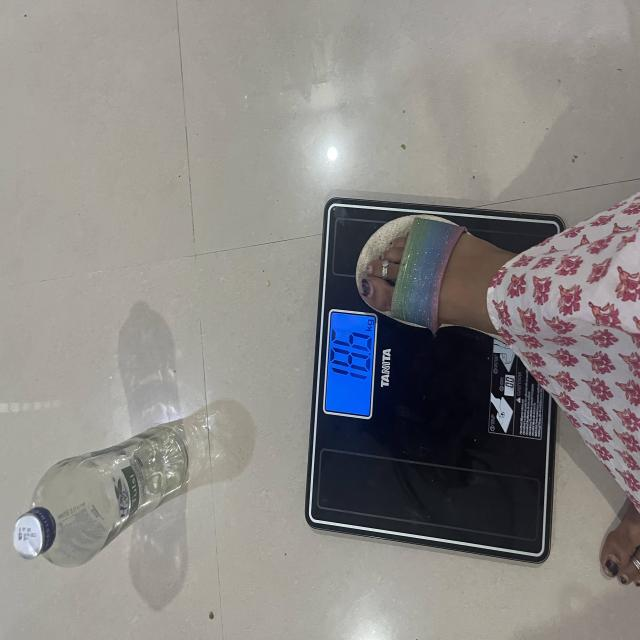ws: (305, 197, 563, 567)
